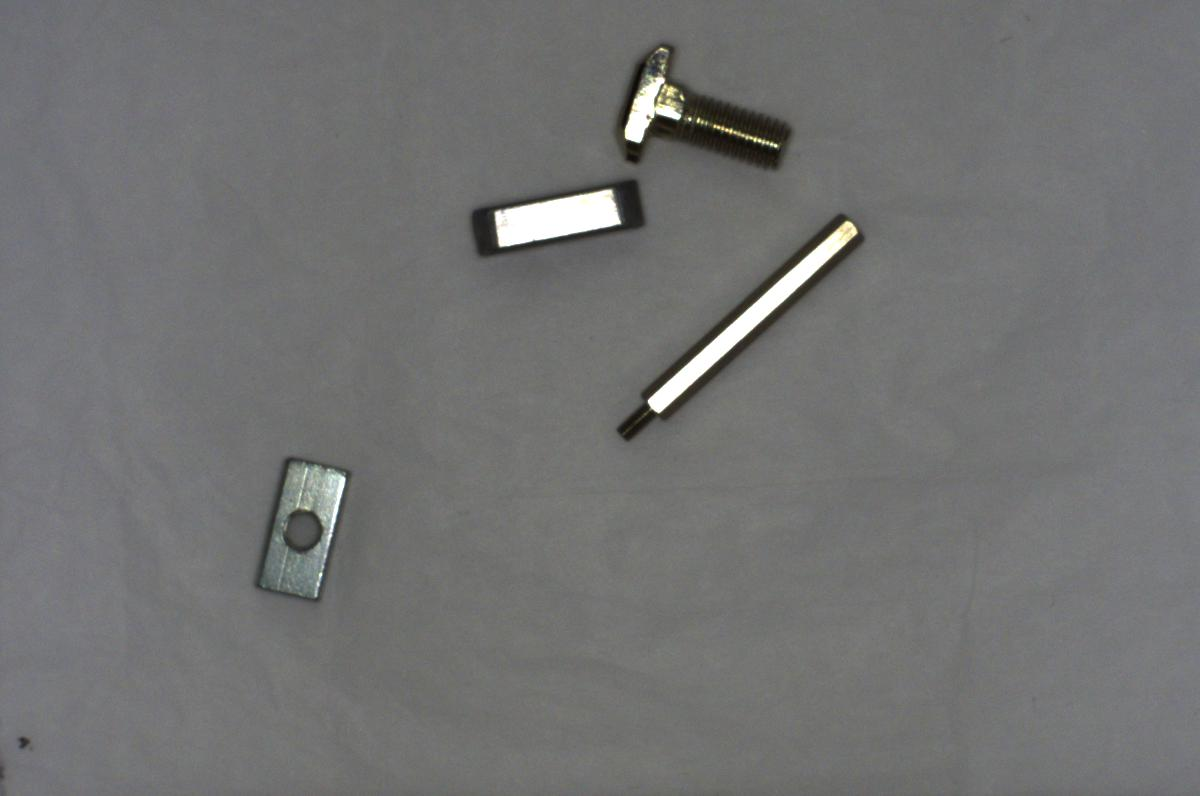Hexagonal steel column: (605, 206, 862, 443)
Keybar: (460, 170, 651, 262)
Rectangular nut: (254, 454, 348, 598)
T-shaped screw: (607, 39, 795, 168)
